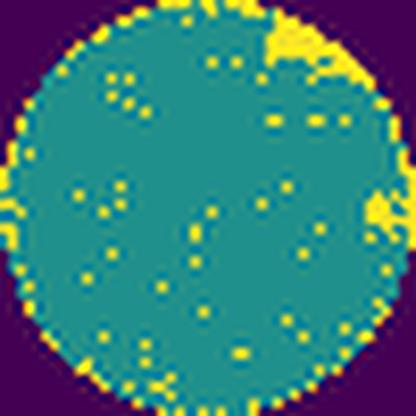Edge-Loc: (256, 7, 380, 94), (356, 141, 416, 254)
